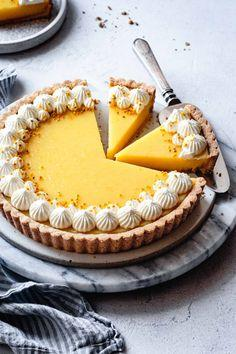Tart: (1, 83, 225, 258)
